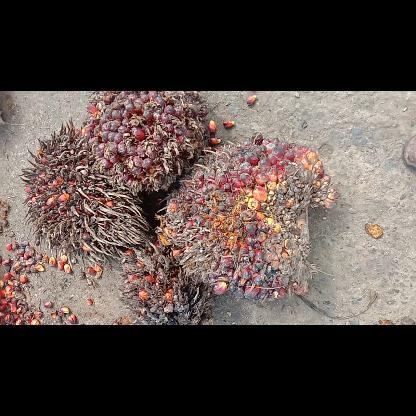TBS masak: (155, 132, 333, 302), (82, 90, 208, 194)
Terlalu masak: (20, 122, 148, 268), (122, 238, 212, 324)
